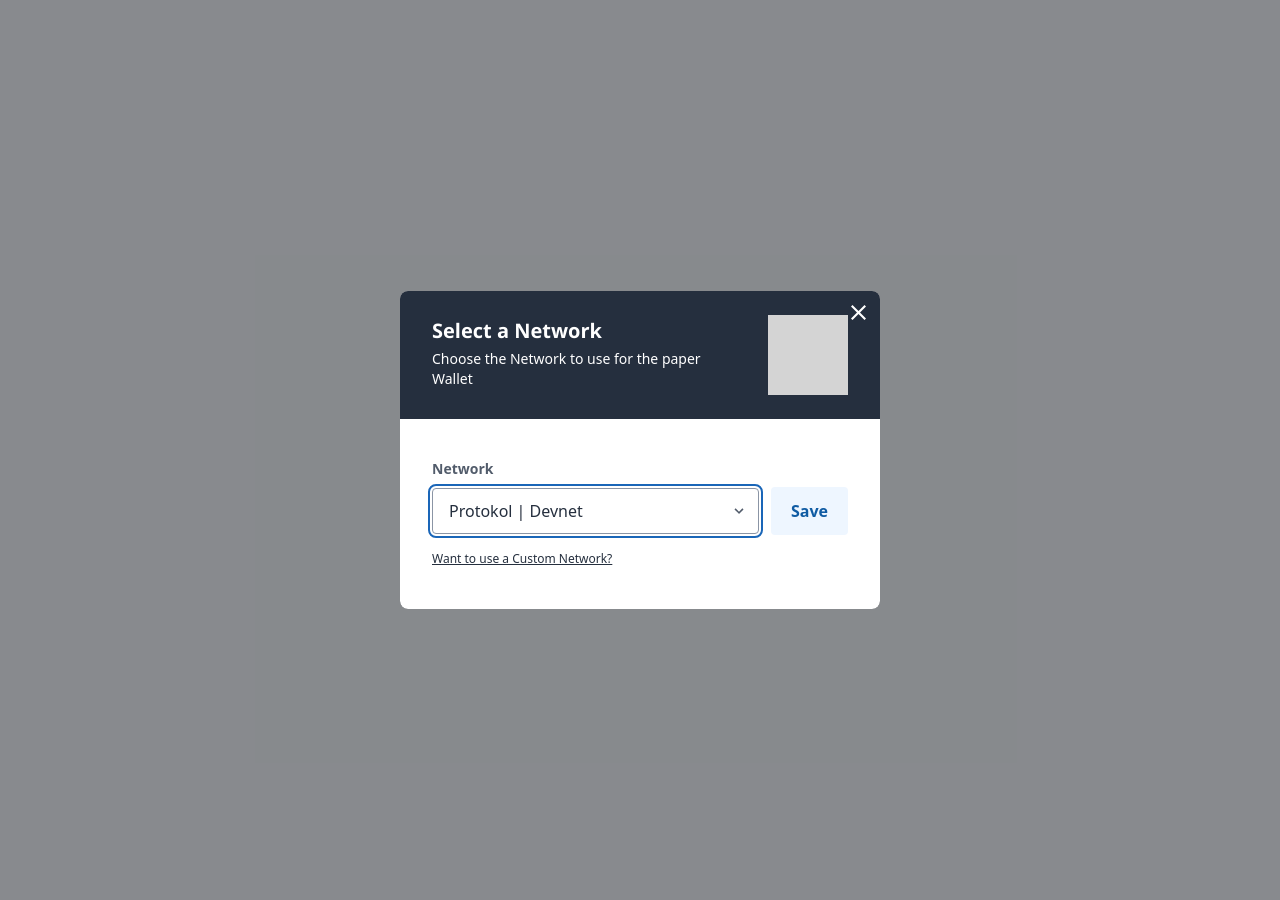
Test: Modal.vue › labels the custom network inputs with their valid range
Click the button with class "inline-link".
click(522, 559)  # box [432, 551, 612, 567]
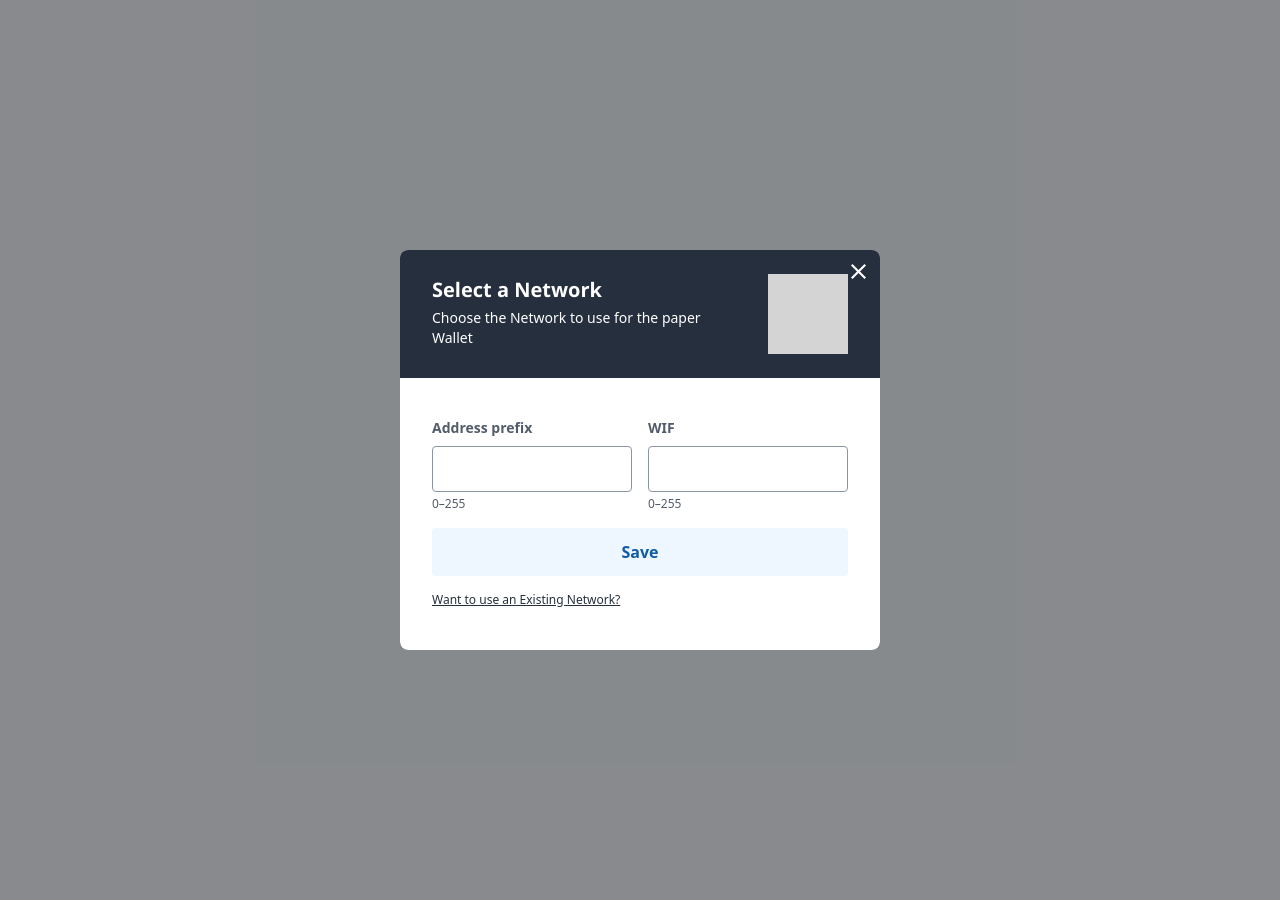
Result: the label "Address prefix" is shown at [432, 418, 532, 437]
Result: the label "WIF" is shown at [648, 418, 675, 437]
Result: the text "0–255" is shown at [432, 495, 466, 512]
